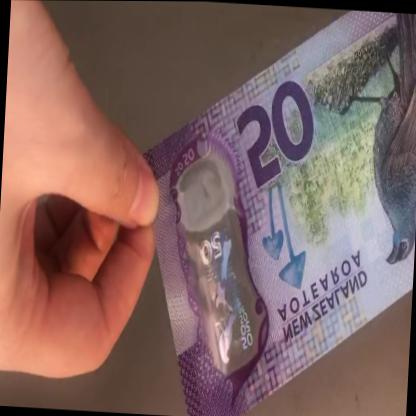50B: (170, 157, 262, 368)
